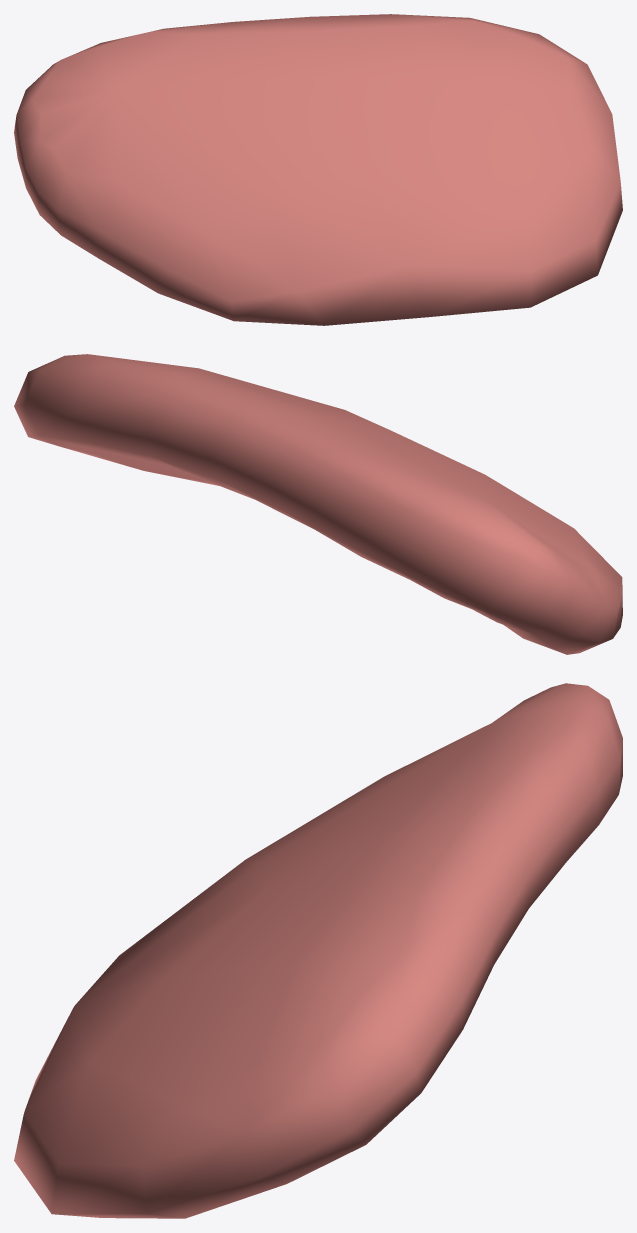
The picture shows the model from 3 angles, top to bottom: view 1: azimuth 30°, elevation 25°; view 2: azimuth 150°, elevation 25°; view 3: azimuth 270°, elevation 25°; orthographic projection. The views are drawn at different scales.
Visible parts, largest first — view 1: ZA_b69ad5474404c0ff; view 2: ZA_b69ad5474404c0ff; view 3: ZA_b69ad5474404c0ff.
Part boxes in pixels (<box>): ZA_b69ad5474404c0ff: <box>14,14,622,325</box>; ZA_b69ad5474404c0ff: <box>14,354,622,654</box>; ZA_b69ad5474404c0ff: <box>14,683,622,1218</box>.
Bounding box in the file's own units: 0.00375 × 0.00137 × 0.00255.
